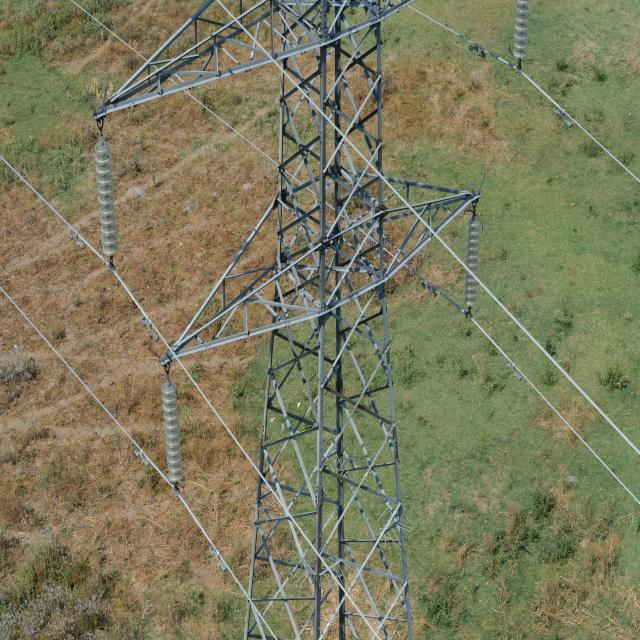direk: (187, 0, 456, 640)
